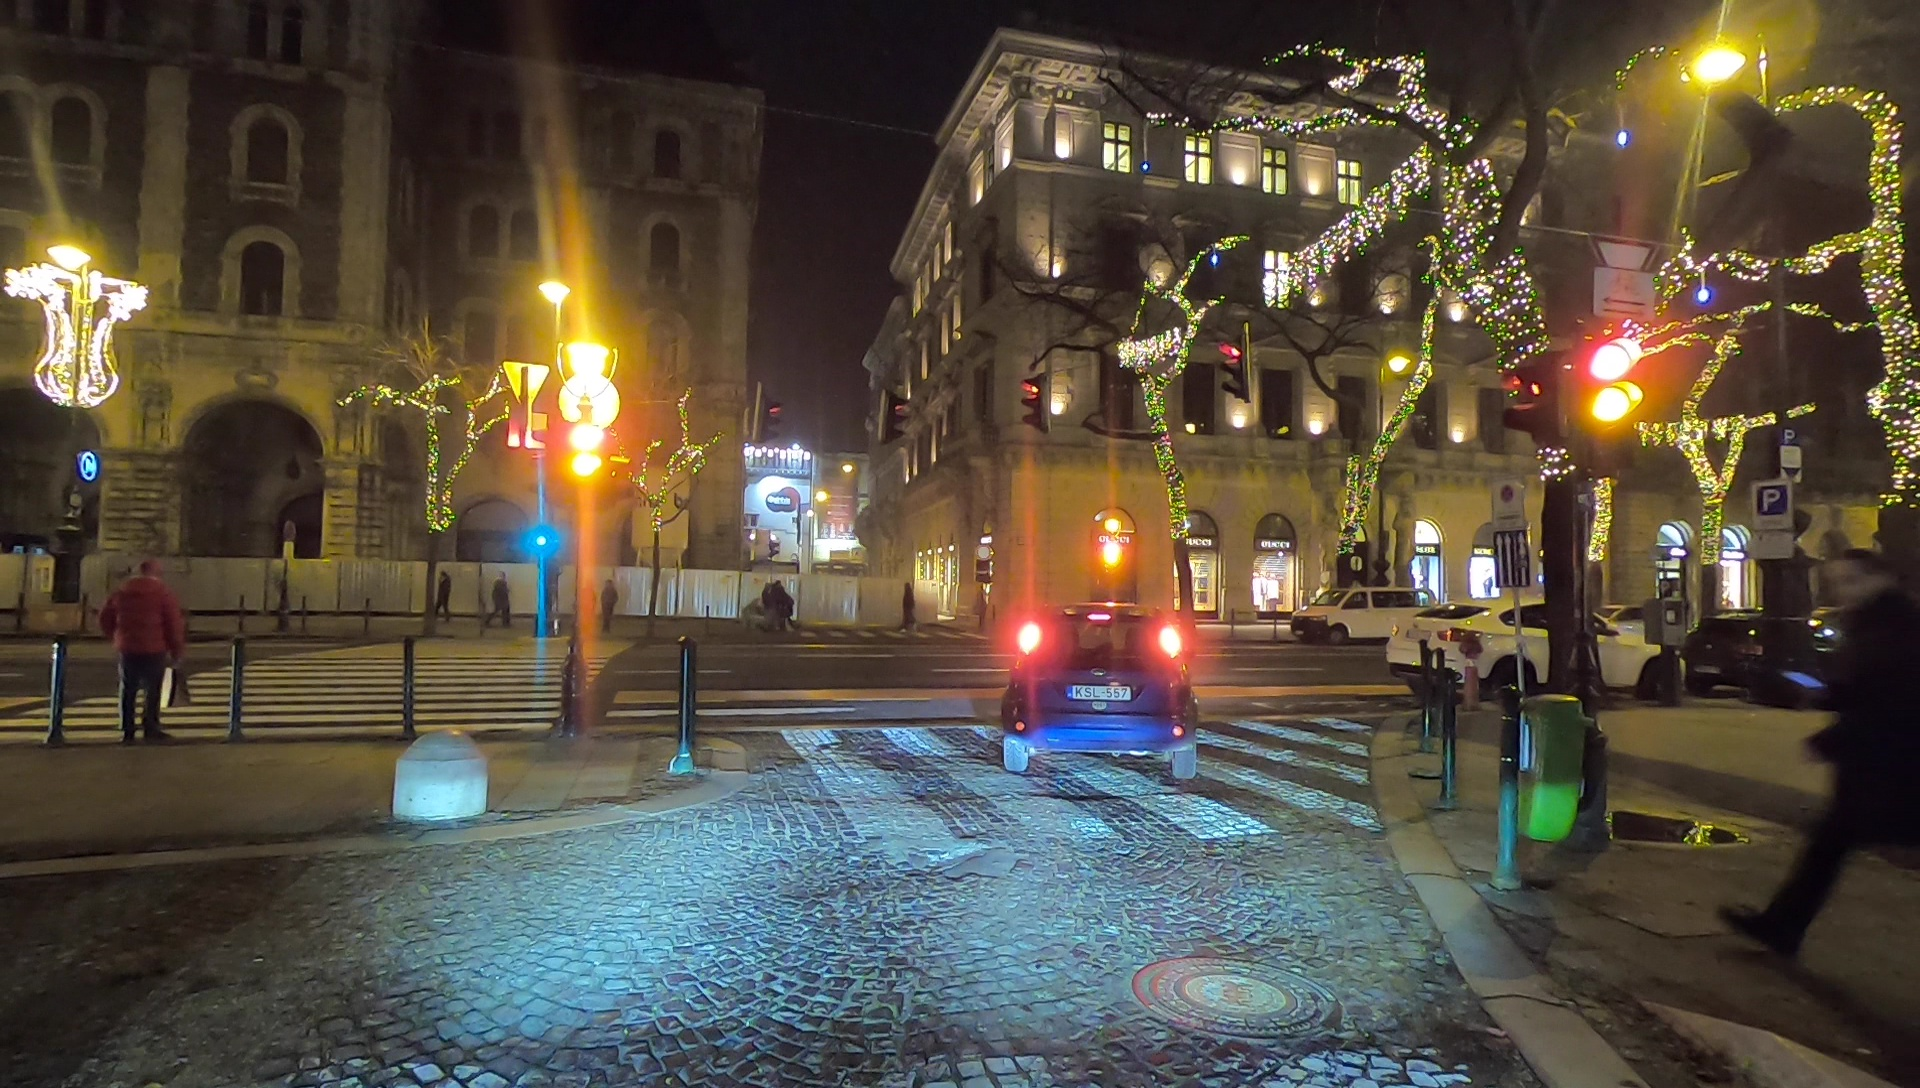person: (1728, 547, 1920, 950), (100, 560, 190, 743), (756, 578, 796, 635), (485, 569, 511, 634), (598, 577, 618, 636), (900, 578, 919, 633), (434, 569, 452, 622)
